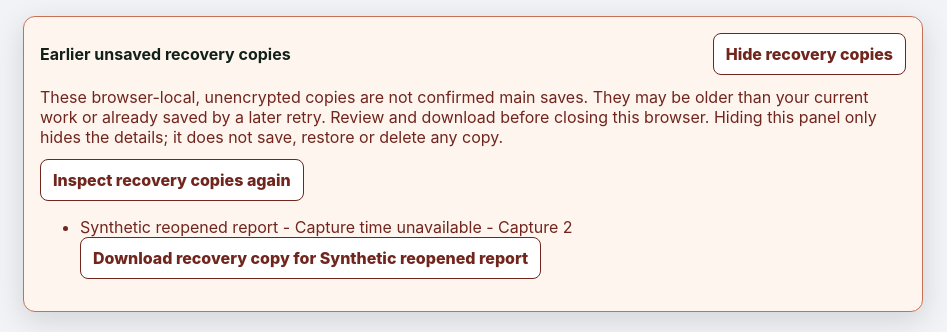
Test: hides and reopens details without changing, re-reading or deleting any recovery or main-save data
The width and height of the screenshot is (947, 332).
Click the button "Hide recovery copies" at (809, 54), box [713,33,906,75]
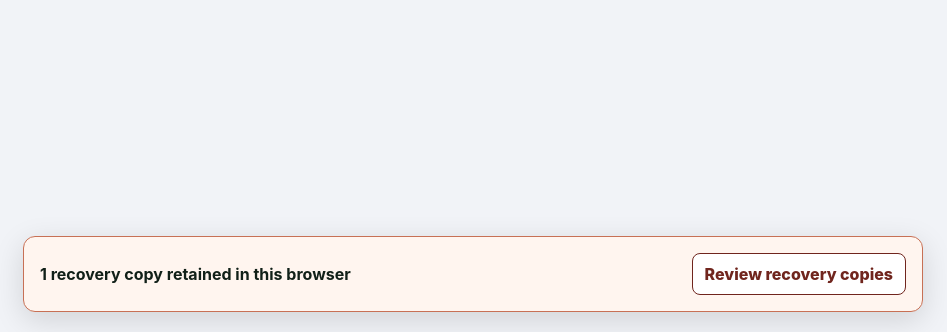
Result: the button "Review recovery copies" is collapsed
Result: the heading "1 recovery copy retained in this browser" is shown at [40,264,351,284]
Click the button "Review recovery copies" at (799, 274), box [692,253,906,295]
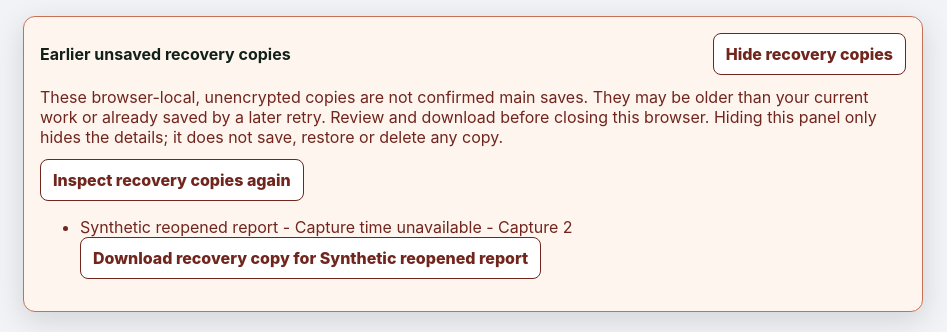
Result: the button "Hide recovery copies" is expanded
Click the button "Hide recovery copies" at (809, 54), box [713,33,906,75]
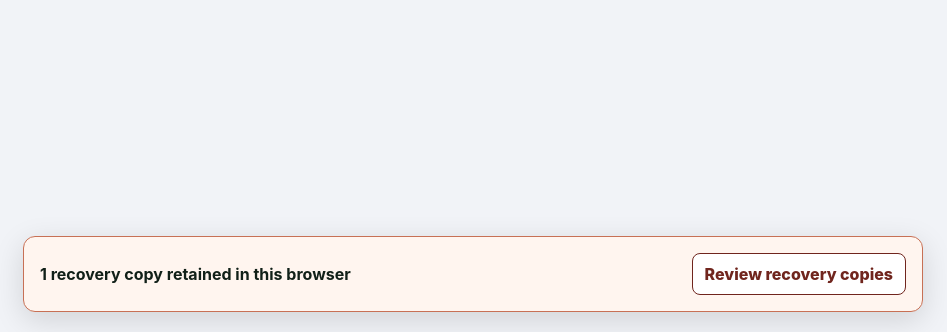
Result: the button "Review recovery copies" is collapsed
Result: the heading "1 recovery copy retained in this browser" is shown at [40,264,351,284]
Click the button "Review recovery copies" at (799, 274), box [692,253,906,295]
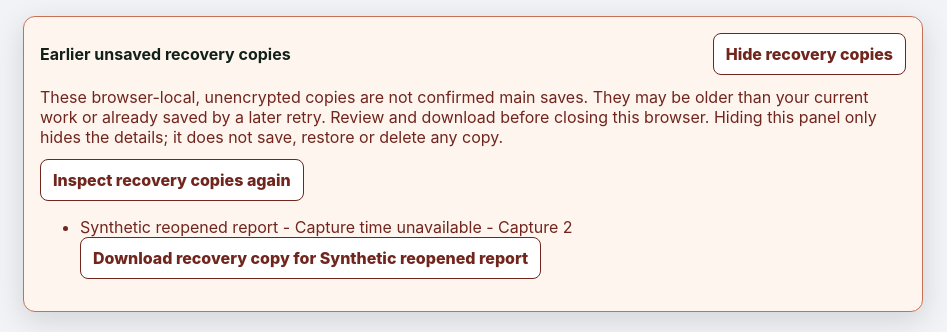
Result: the button "Hide recovery copies" is expanded
Click the button "Hide recovery copies" at (809, 54), box [713,33,906,75]
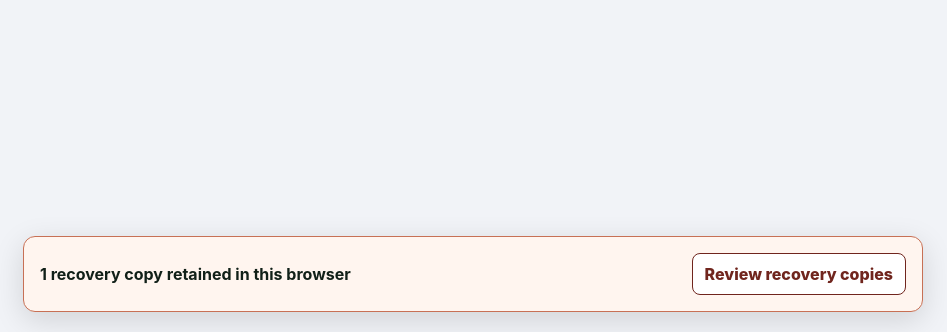
Result: the button "Review recovery copies" is collapsed
Result: the heading "1 recovery copy retained in this browser" is shown at [40,264,351,284]
Click the button "Review recovery copies" at (799, 274), box [692,253,906,295]
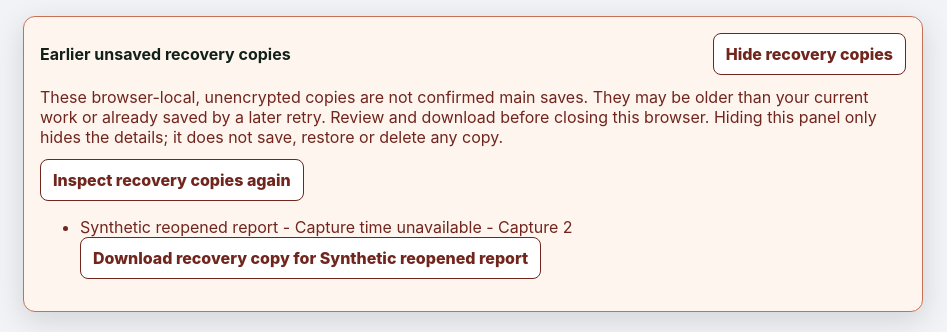
Result: the button "Hide recovery copies" is expanded at [713,33,906,75]
